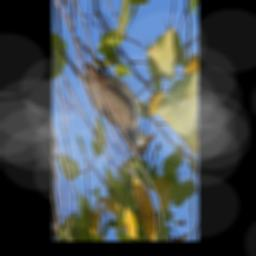Cuckoo: (78, 14, 169, 182)
